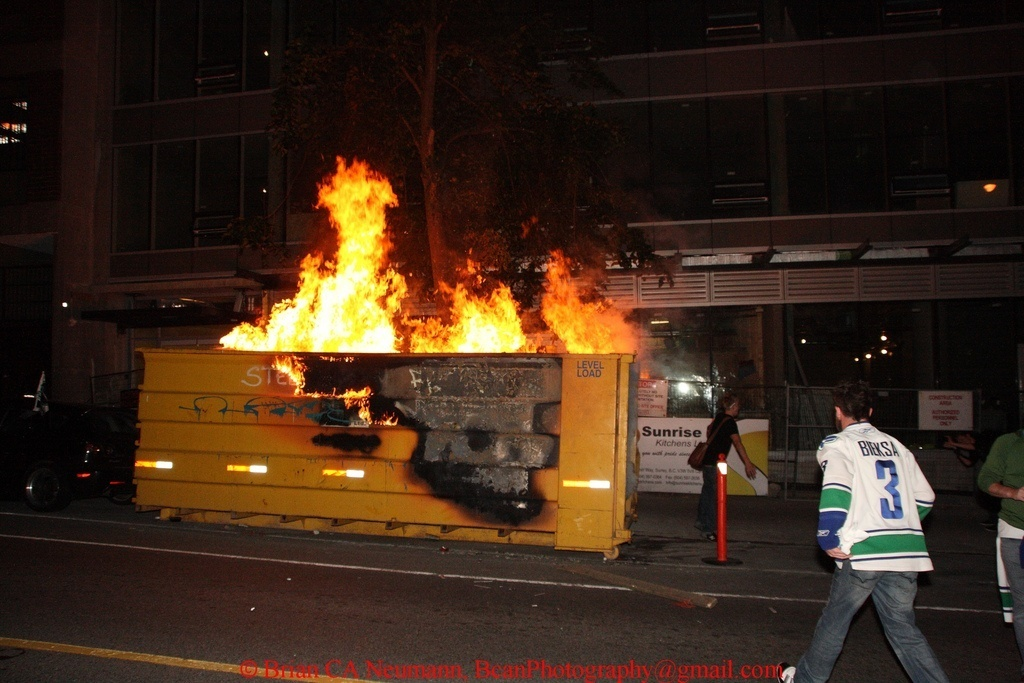fire: (214, 162, 635, 382), (981, 178, 998, 192)
